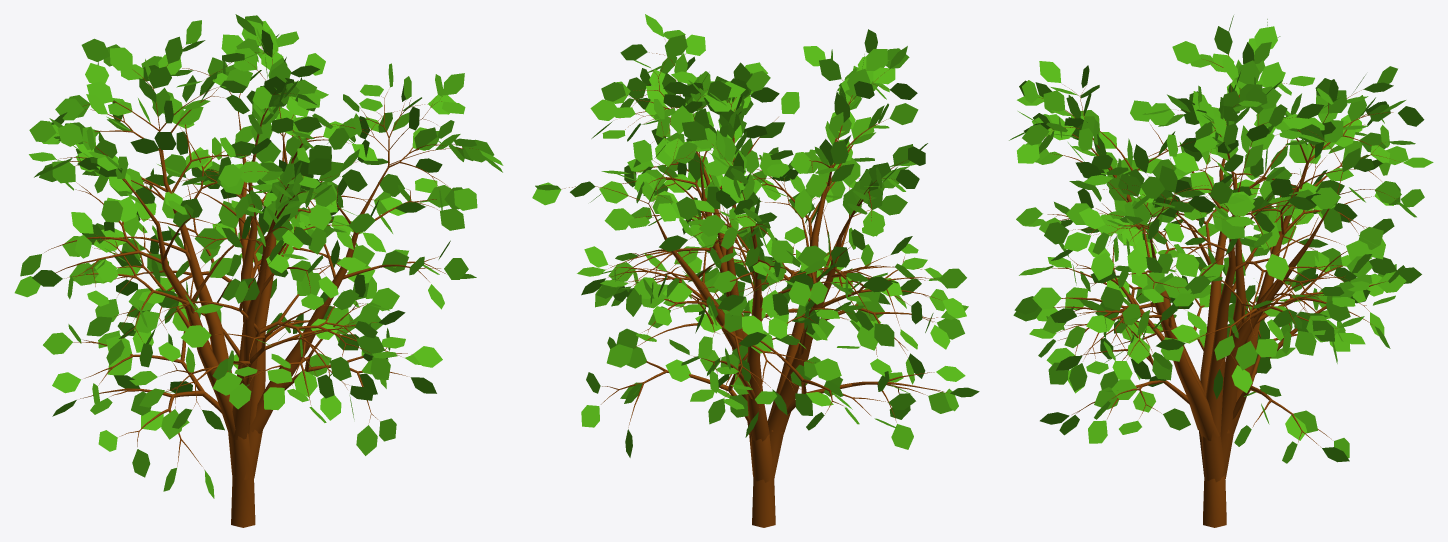
File: tree3.fbx
3 renders of one model, left to right at view 1: azimuth 30°, elevation 25°; view 2: azimuth 150°, elevation 25°; view 3: azimuth 270°, elevation 25°, orthographic. The views are drawn at different scales.
Parts seen in each view (by area): view 1: leaves, tree; view 2: leaves, tree; view 3: leaves, tree.
Boxes of the visible parts, x1,y1,x2,y2 form: leaves: (14, 14, 503, 498); tree: (44, 42, 478, 527); leaves: (532, 14, 979, 457); tree: (561, 40, 947, 527); leaves: (1009, 15, 1433, 463); tree: (1039, 54, 1400, 527).
Bounding box in the file's own units: 1447 × 1676 × 1370.
